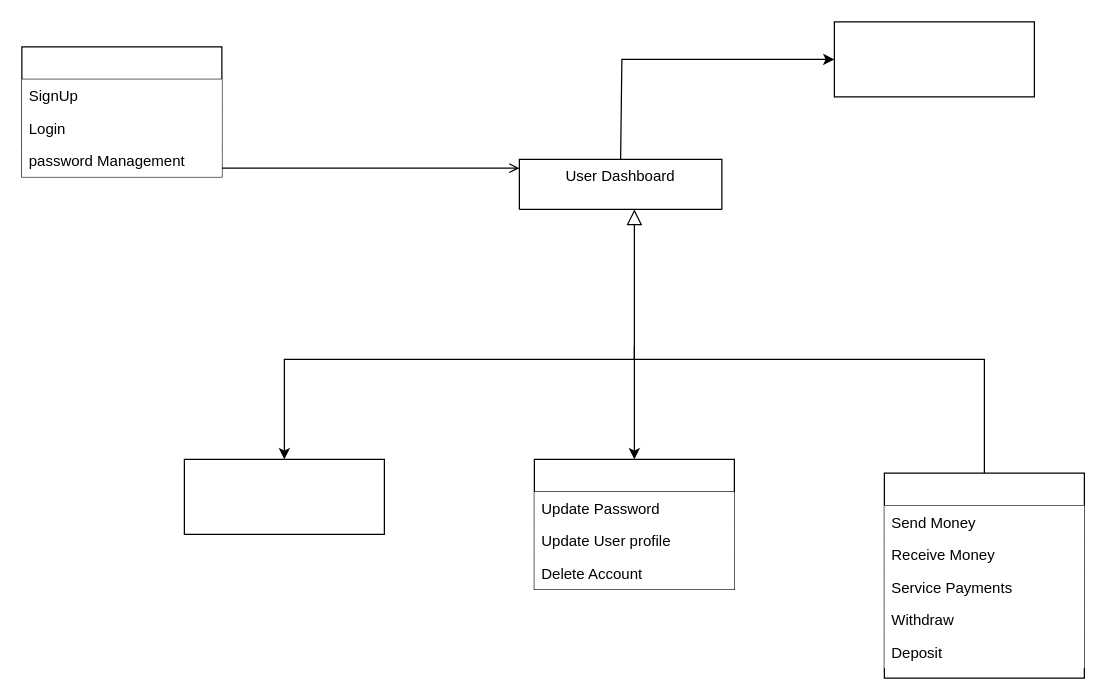
This 1106x700 diagram has some shape labels left out. The shapes that lost their labels are listed below. From the top down, each one's box as (x1, y1, x2, y2) in pixels, then its label:
(833, 21, 1034, 97): Messaging Payment History
(21, 46, 222, 177): Authentication
(183, 458, 384, 534): Check Balance
(533, 458, 734, 589): Profile Editing
(883, 472, 1084, 678): Money Transfer
